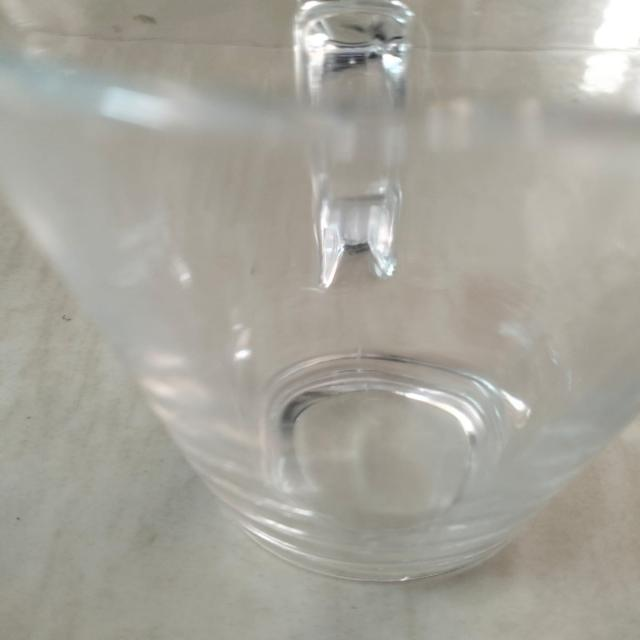glass-VX4N: (4, 4, 640, 594)
